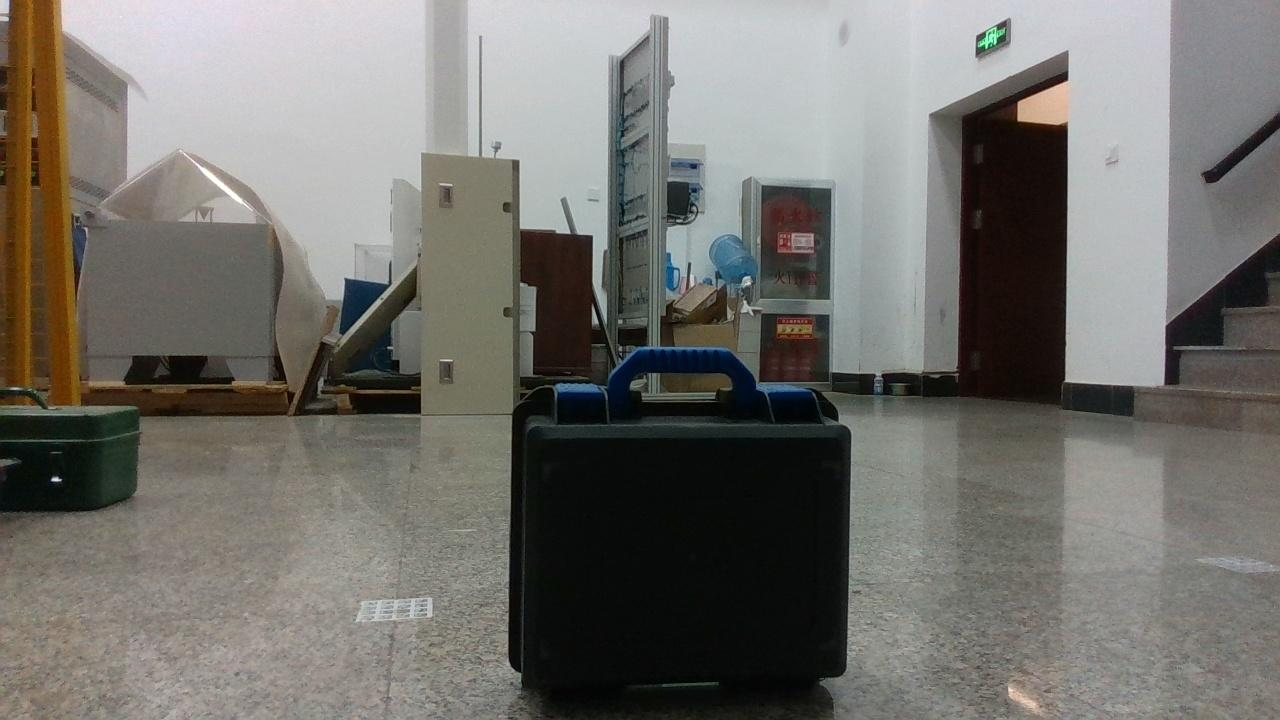toolkit: (508, 348, 850, 689)
